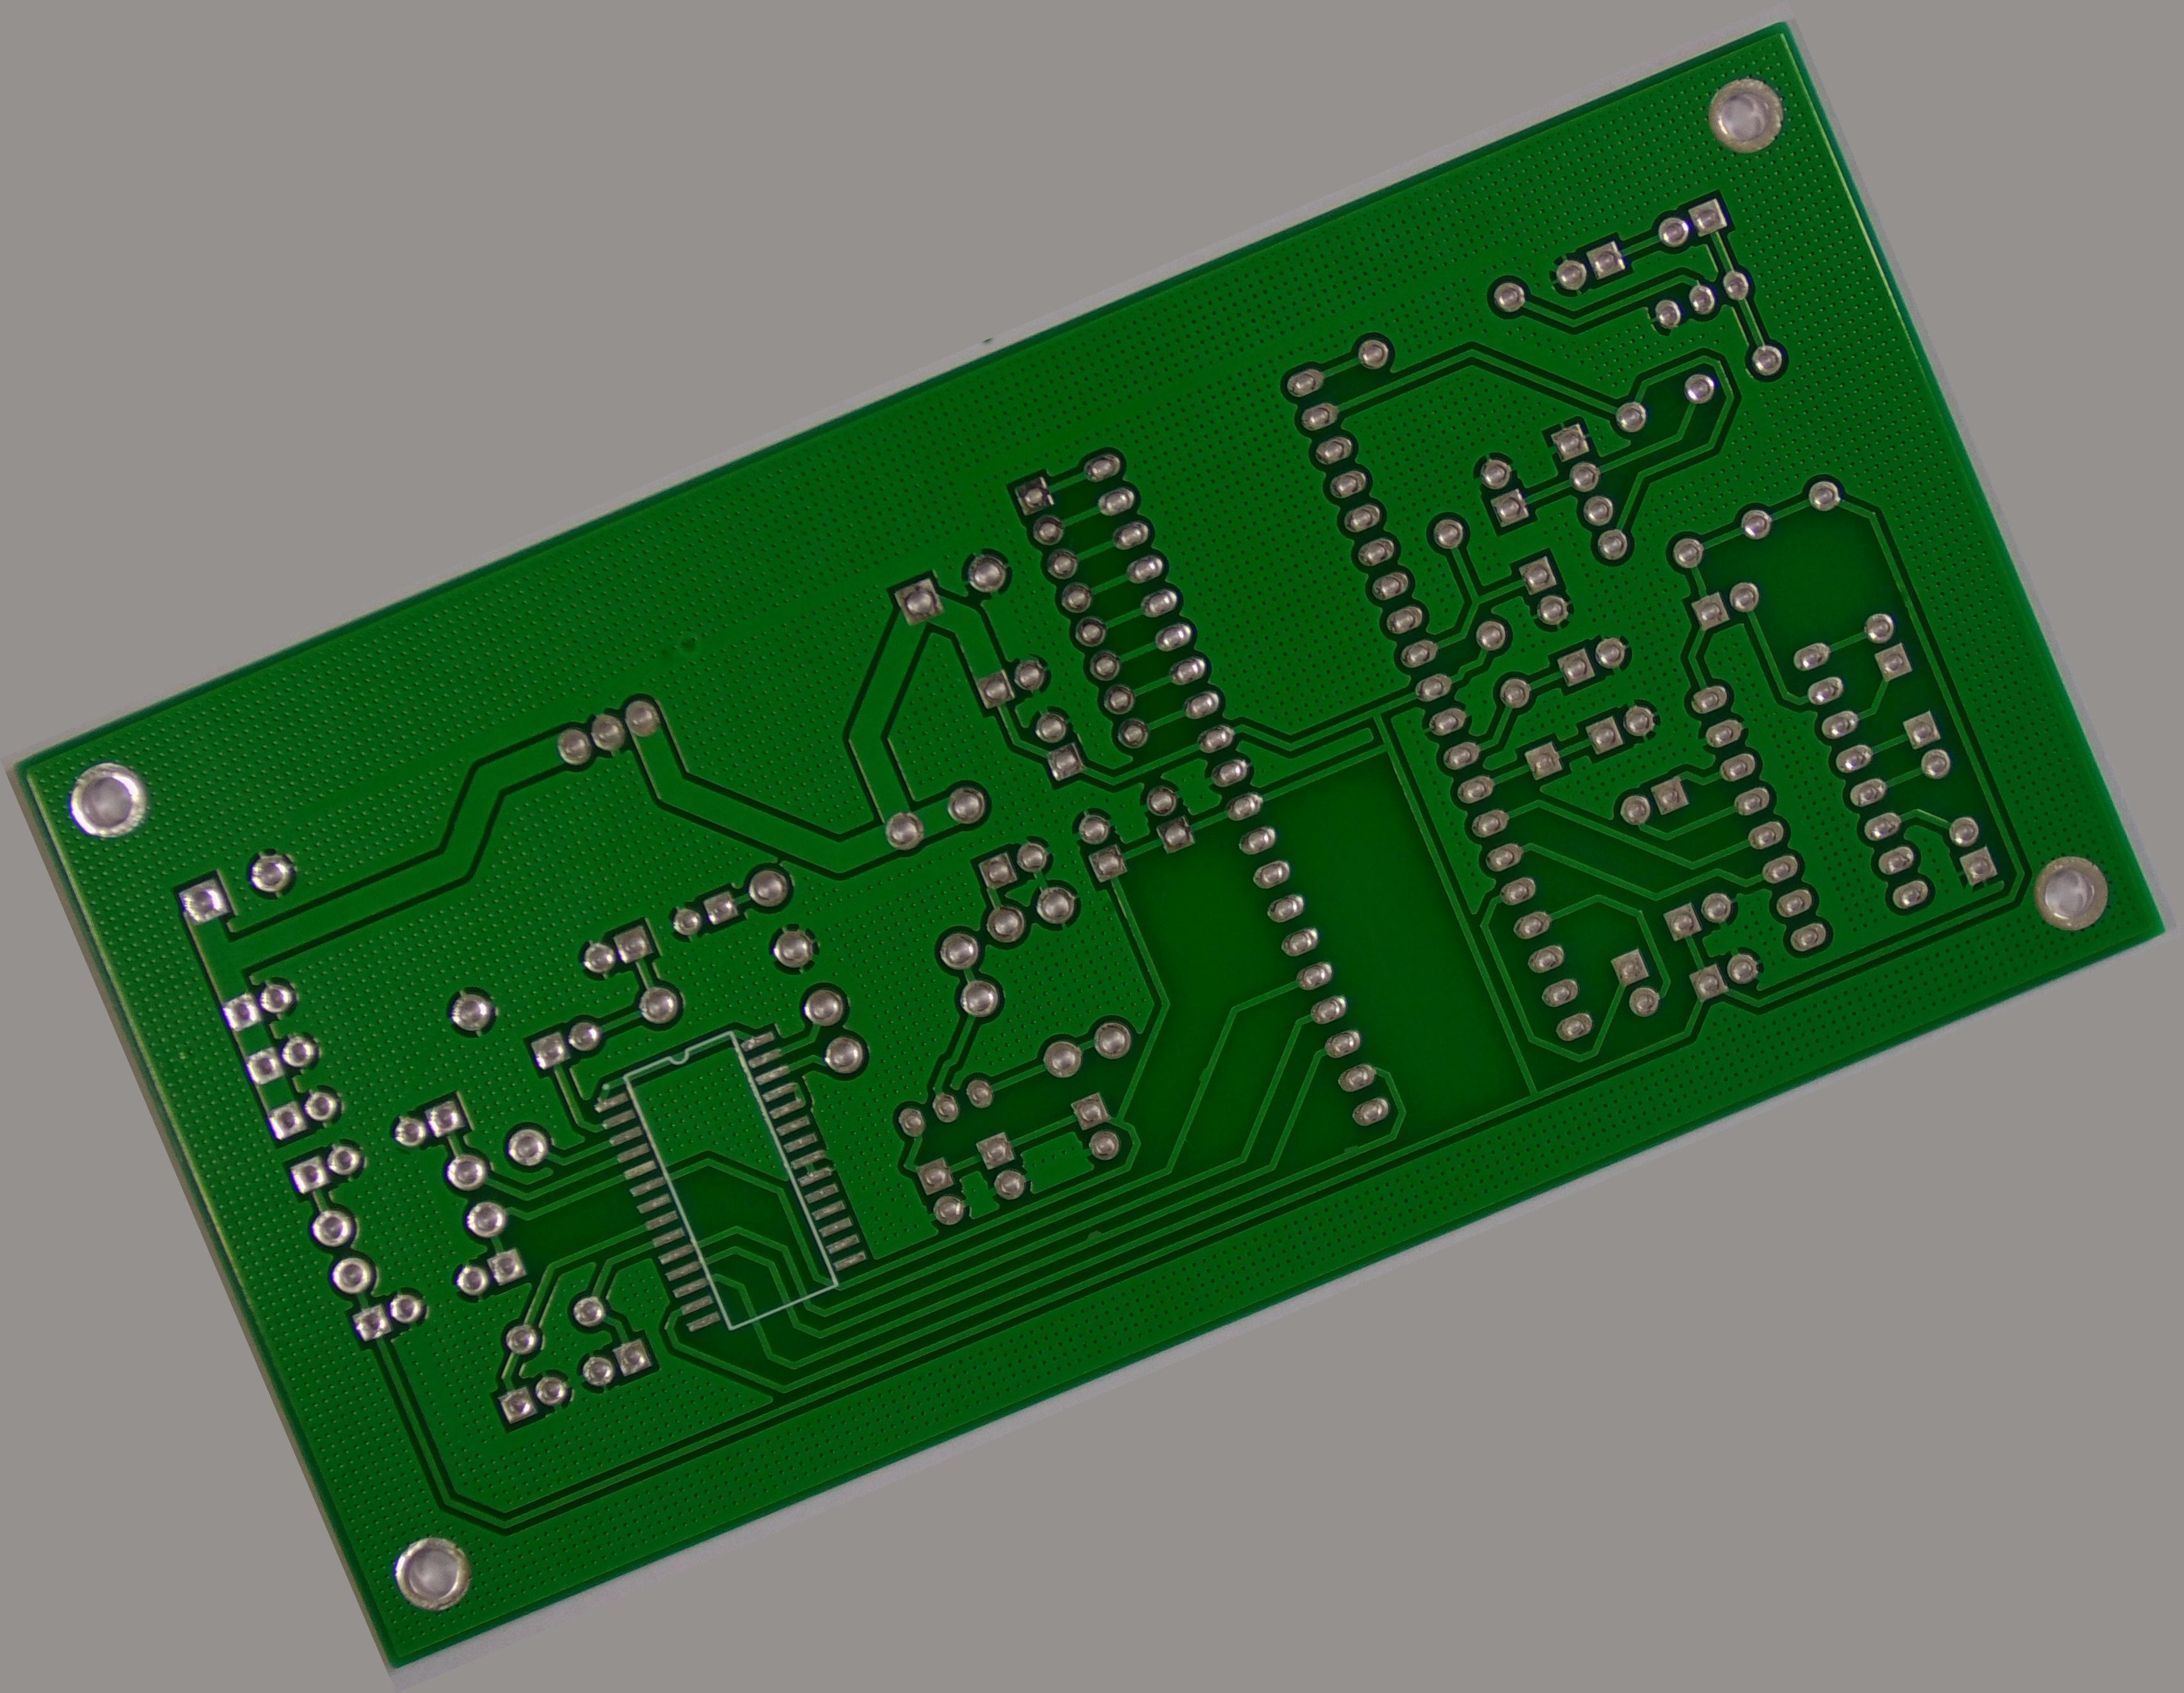spur: (1179, 1051, 1227, 1097), (1073, 1218, 1113, 1253), (1331, 1135, 1367, 1168)
